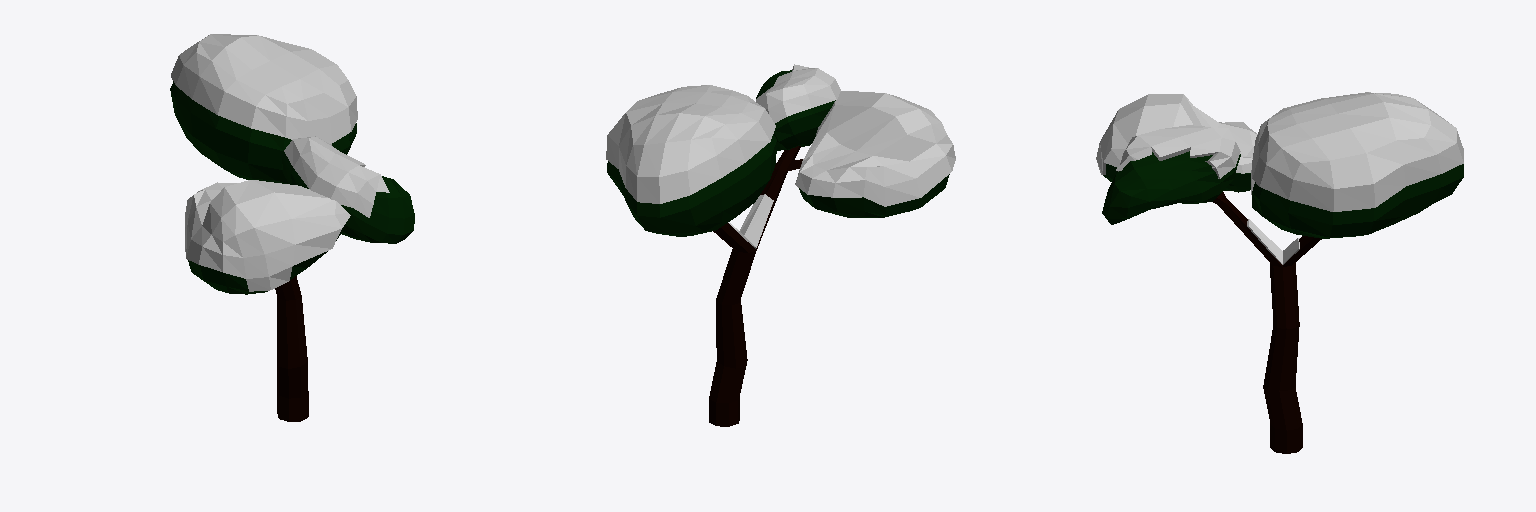
Rendered from snowTree3.obj.
3 views of the same model, side by side, from view 1: azimuth 30°, elevation 25°; view 2: azimuth 150°, elevation 25°; view 3: azimuth 270°, elevation 25° (orthographic).
Parts seen in each view (by area): view 1: Cube.021, Cube.022, Cube.013, Cube.020, Cylinder.001, Cube.018, Cube.019; view 2: Cube.021, Cube.022, Cylinder.001, Cube.013, Cube.020, Cube.019, Cube.018, Cylinder.005; view 3: Cube.021, Cylinder.001, Cube.013, Cube.018, Cube.022, Cube.020, Cylinder.005, Cube.019.
Part boxes in pixels (x1,y1,x2,y2): Cube.021: (171, 34, 357, 145); Cube.022: (185, 180, 350, 291); Cube.013: (170, 81, 356, 183); Cube.020: (284, 136, 389, 217); Cylinder.001: (275, 276, 308, 421); Cube.018: (282, 153, 414, 243); Cube.019: (188, 225, 344, 294); Cube.021: (606, 85, 775, 203); Cube.022: (795, 91, 955, 206); Cylinder.001: (709, 146, 802, 426); Cube.013: (607, 134, 776, 236); Cube.020: (756, 64, 840, 122); Cube.019: (799, 174, 949, 217); Cube.018: (756, 70, 835, 150); Cylinder.005: (728, 194, 773, 248); Cube.021: (1251, 92, 1463, 211); Cylinder.001: (1213, 192, 1321, 453); Cube.013: (1252, 164, 1463, 238); Cube.018: (1102, 151, 1240, 224); Cube.022: (1096, 94, 1257, 174); Cube.020: (1116, 125, 1240, 178); Cylinder.005: (1247, 219, 1299, 264); Cube.019: (1103, 164, 1250, 192).
Size of the model in its own units: 17.25 by 23.44 by 22.74.